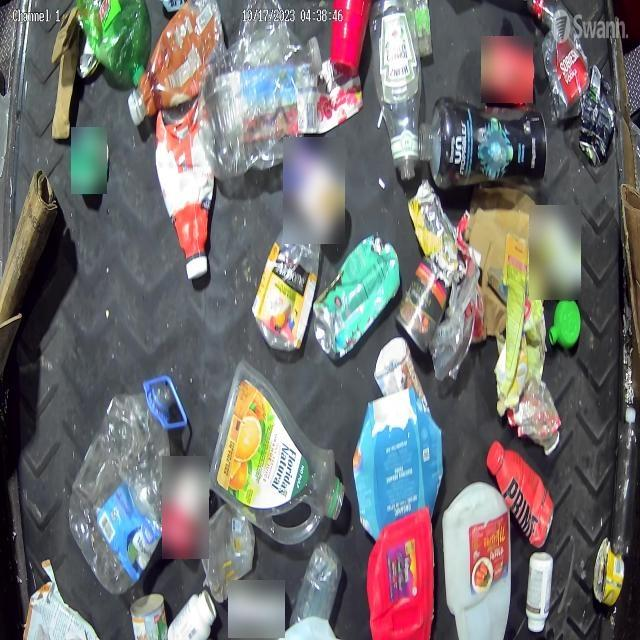milk_jug: (444, 484, 512, 638)
non_white_jug: (208, 360, 346, 546), (354, 392, 441, 535), (366, 507, 434, 638)
plastic_bottle: (376, 5, 422, 182), (612, 406, 638, 557)
